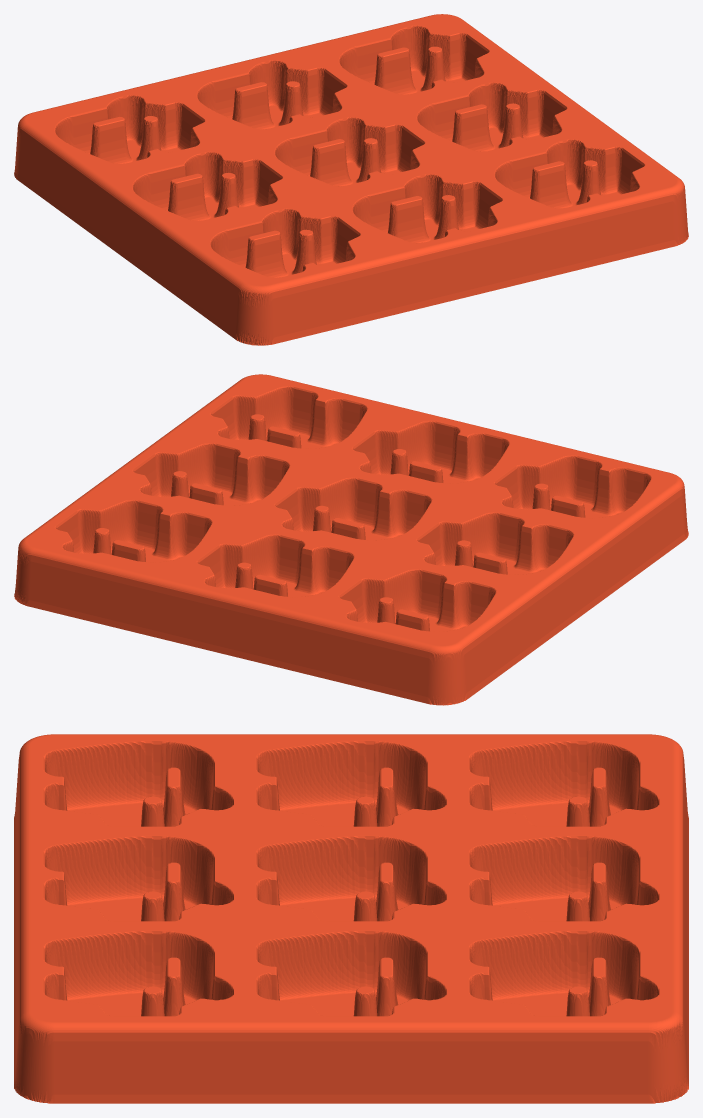
The model's file is mold.glb.
3 renders of one model, top to bottom at view 1: azimuth 30°, elevation 25°; view 2: azimuth 150°, elevation 25°; view 3: azimuth 270°, elevation 25°, orthographic. The views are drawn at different scales.
Parts seen in each view (by area): view 1: geometry_0; view 2: geometry_0; view 3: geometry_0.
Boxes of the visible parts, x1=… form: geometry_0: x1=14, y1=14, x2=688, y2=345; geometry_0: x1=14, y1=374, x2=688, y2=705; geometry_0: x1=14, y1=734, x2=688, y2=1103.
Size of the model in its own units: 0.1595 by 0.0185 by 0.1515.
